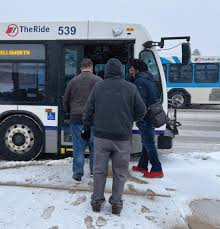bus: (1, 20, 191, 160), (156, 52, 219, 107)
